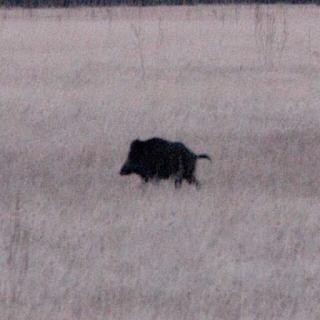Pig: (111, 142, 221, 196)
